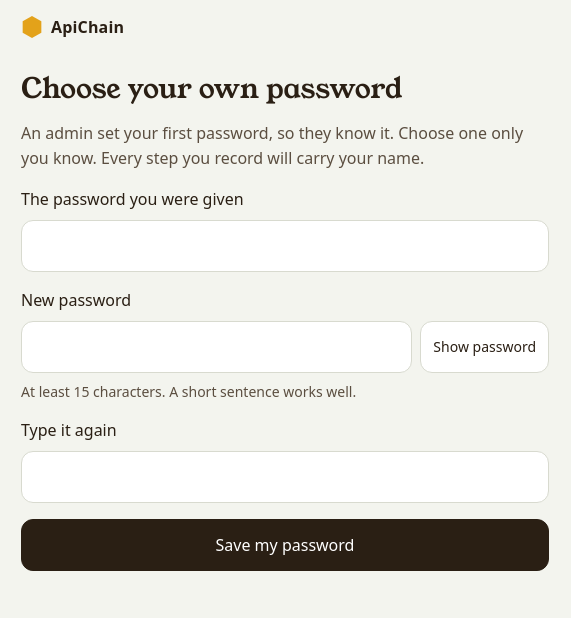
Scenario: A password someone else set (13 D5) › says plainly when the given password is wrong
The width and height of the screenshot is (571, 618).
Expected: the heading "Choose your own password" is shown, [21,69,402,108]
Type "not it at all" into the password field labelled "The password you were given" at (285, 246), box [21,220,549,272]
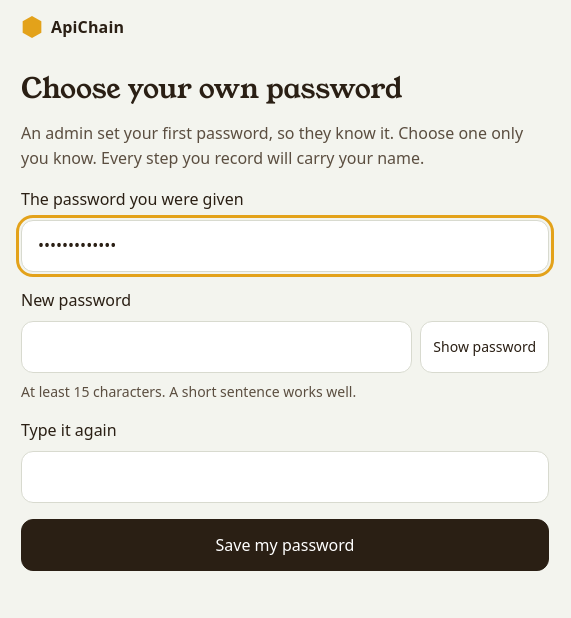
Type "honey from tetu in march" into the password field labelled "New password" at (217, 347), box [21,321,412,373]
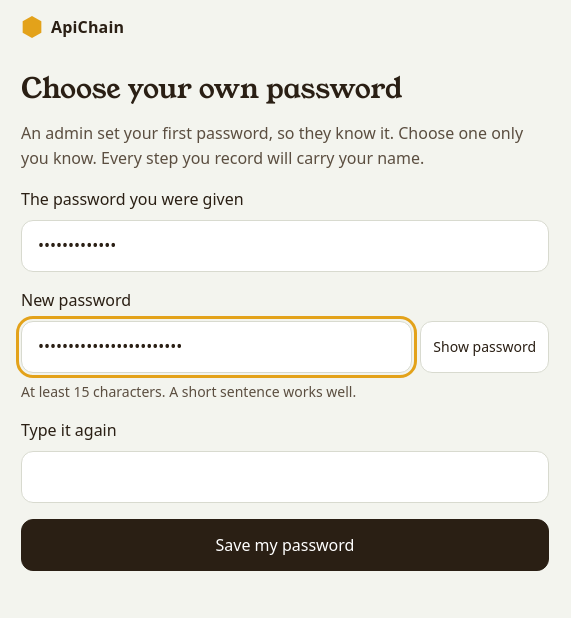
Type "honey from tetu in march" into the password field labelled "Type it again" at (285, 477), box [21,451,549,503]
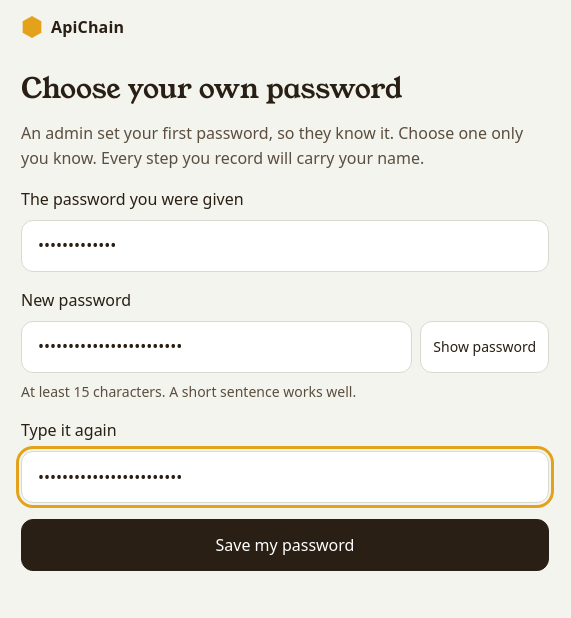
Click the button "Save my password" at (285, 545), box [21,519,549,571]
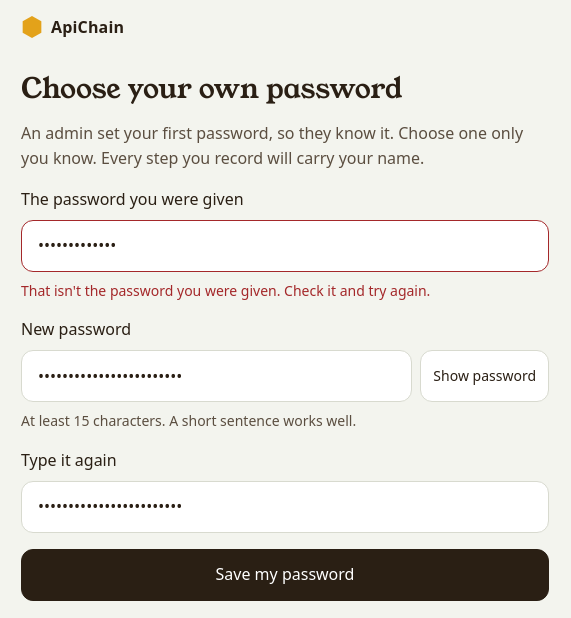
Result: the text "That isn't the password you were given. Check it and try again." is shown at [21,281,430,300]
